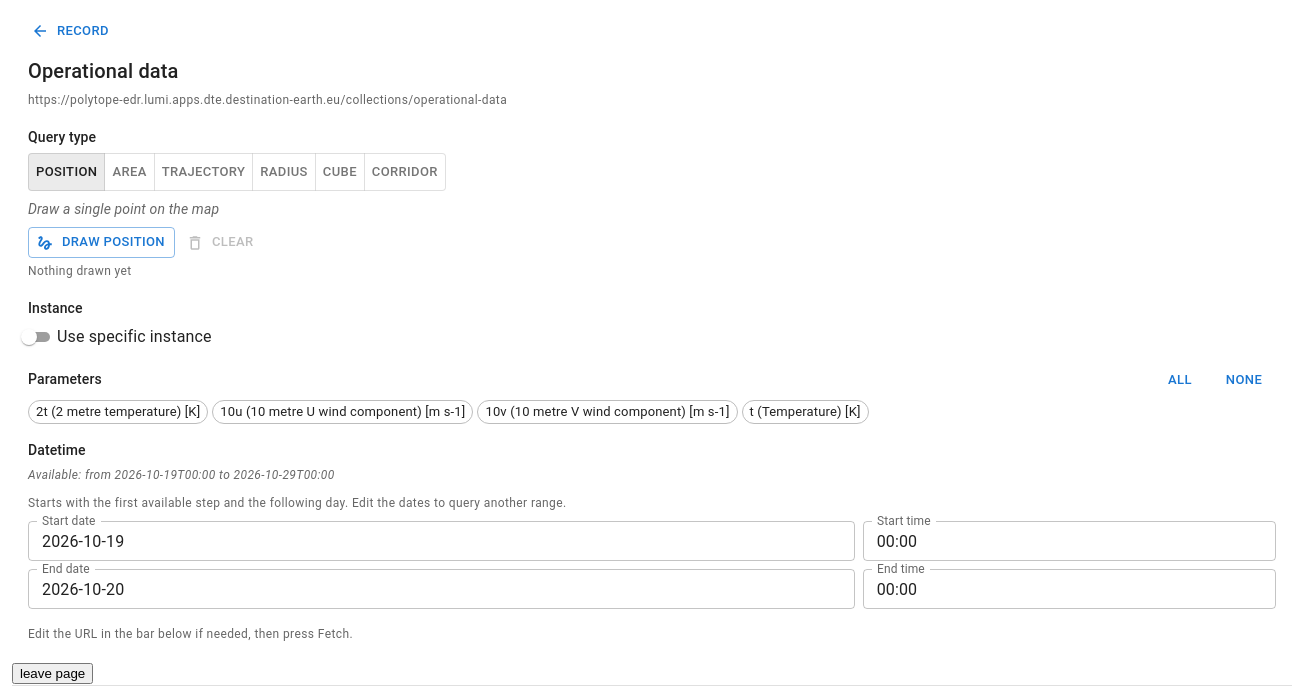
Test: EDR page › instance: switch + dropdown put the instance in the path and load its range
The width and height of the screenshot is (1292, 688).
What coordinates should you click on to do the following:
click the checkbox labelled "Use specific instance"
I would click on:
 (114, 337)
Its box is [17,325,212,349].
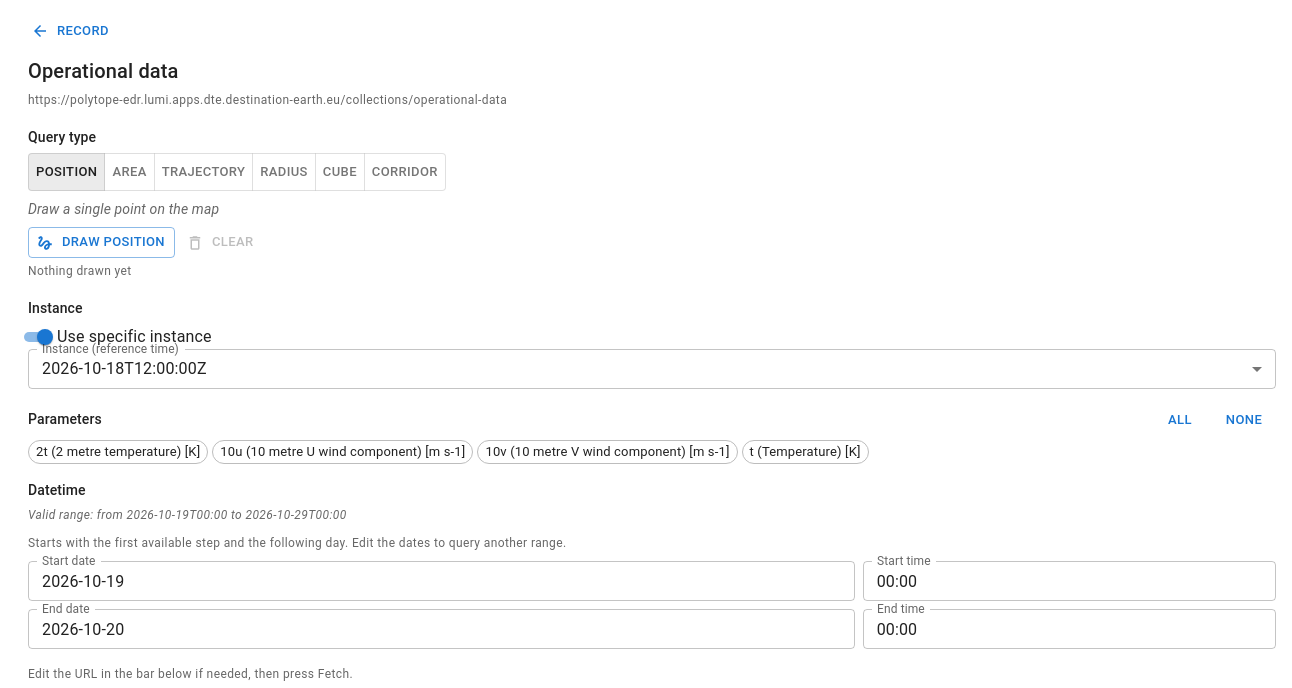
What coordinates should you click on to do the following:
click the button "Draw position"
I would click on:
 (101, 243)
Its box is [28,228,175,258].
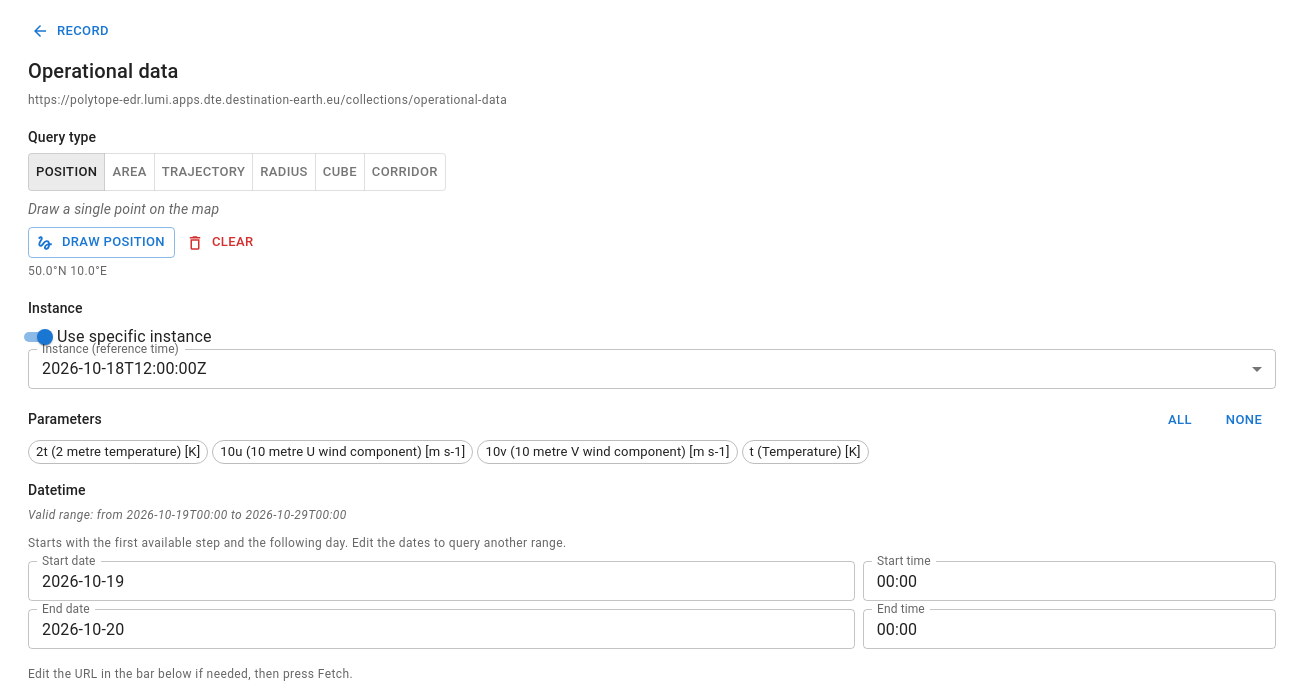
Expected: the field labelled "Start date" holds "2026-10-19", [28,561,855,601]
Result: the text "Valid range: from 2026-10-19T00:00 to 2026-10-29T00:00" is shown at [28,508,347,522]
What coordinates should you click on to do the following:
click the checkbox labelled "Use specific instance"
I would click on:
 (114, 337)
Its box is [17,325,212,349].
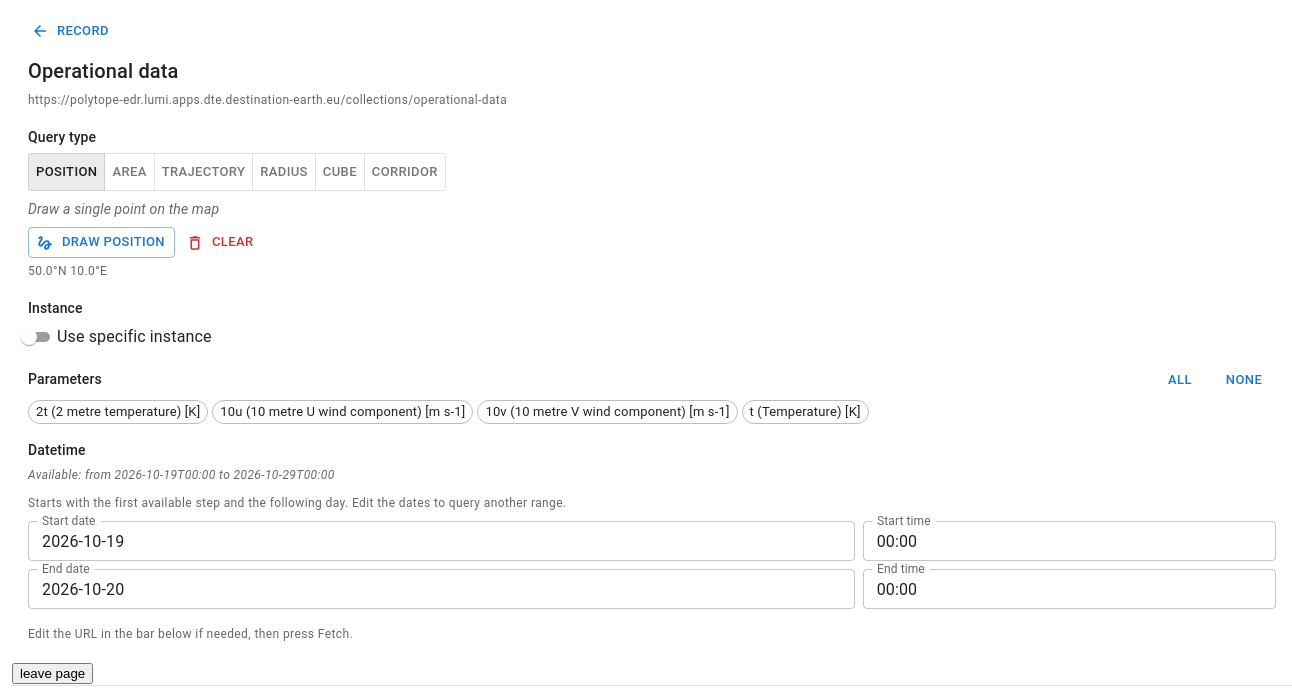
Result: the text "Available: from 2026-10-19T00:00 to 2026-10-29T00:00" is shown at [28,468,335,482]
